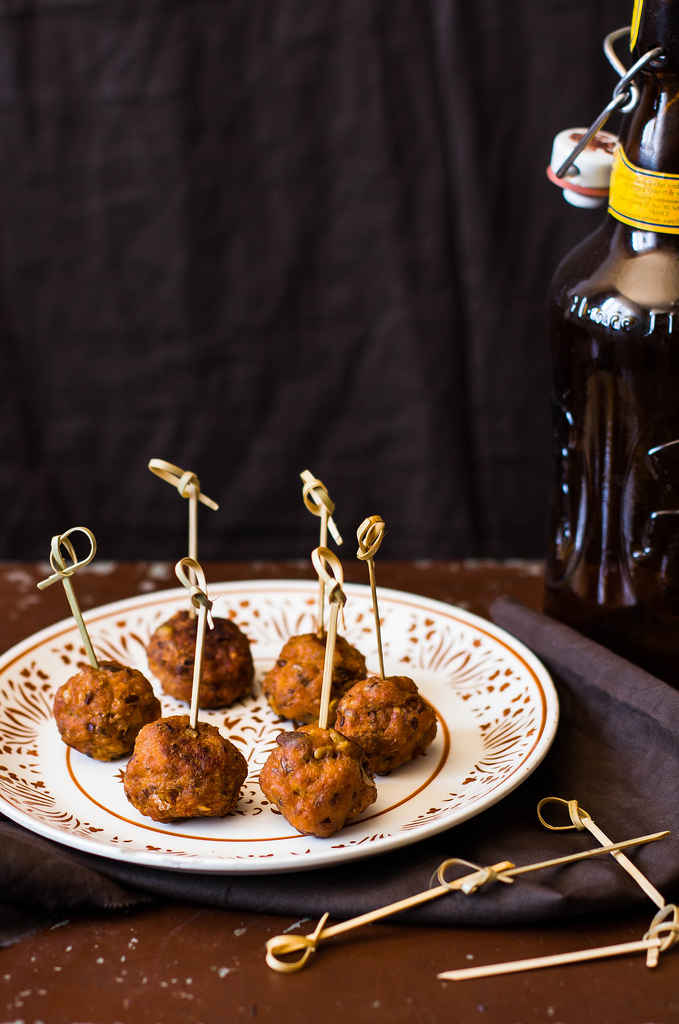meatballs: (116, 717, 247, 825), (250, 732, 377, 841), (138, 600, 266, 707), (257, 628, 380, 725), (50, 661, 158, 761), (327, 680, 446, 769)
